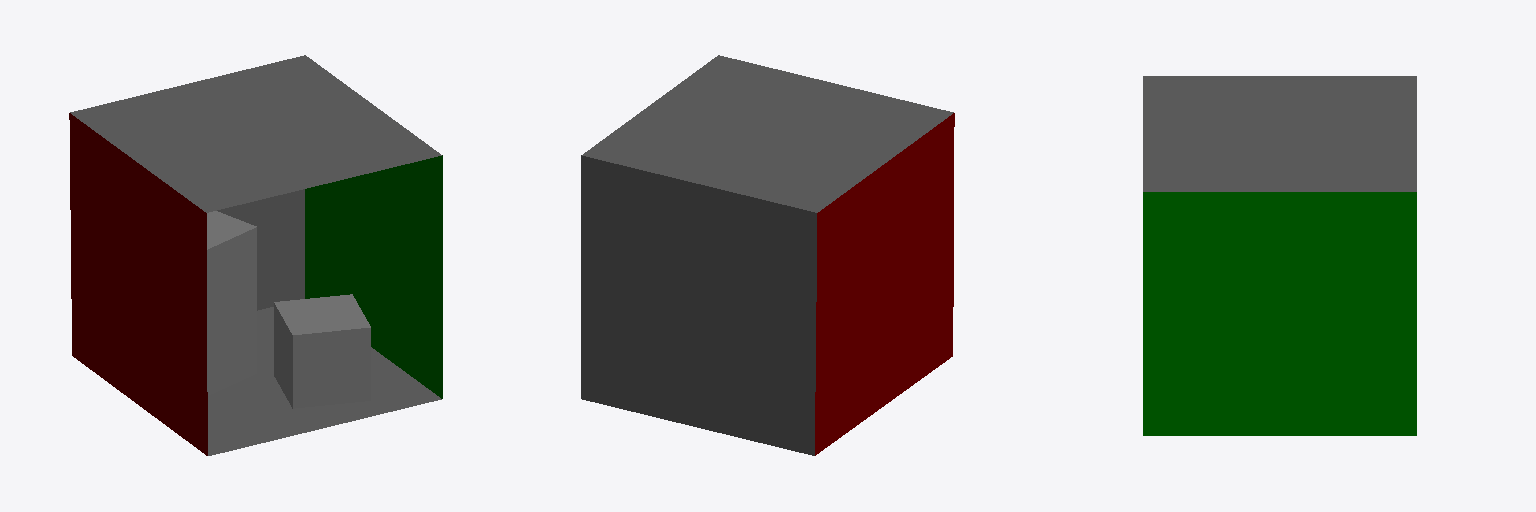
The model's file is cornell_box.obj.
3 views of the same model, side by side, from view 1: azimuth 30°, elevation 25°; view 2: azimuth 150°, elevation 25°; view 3: azimuth 270°, elevation 25° (orthographic).
Visible parts, largest first — view 1: cbox, cbox_red, cbox_green, small_box, large_box; view 2: cbox, cbox_red; view 3: cbox_green, cbox.
Boxes of the visible parts, <box> form: cbox: <box>70,55,441,455</box>; cbox_red: <box>69,113,207,455</box>; cbox_green: <box>305,155,442,398</box>; small_box: <box>274,294,370,408</box>; large_box: <box>207,211,256,395</box>; cbox: <box>581,55,953,455</box>; cbox_red: <box>815,113,954,455</box>; cbox_green: <box>1143,192,1416,435</box>; cbox: <box>1143,76,1416,191</box>.
Size of the model in its own units: 556 by 549 by 559.